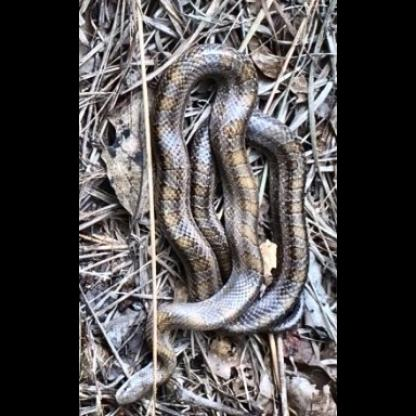Snake: (115, 42, 313, 404)
